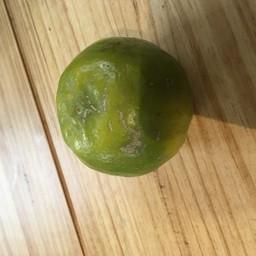Good_orange: (52, 34, 194, 176)
